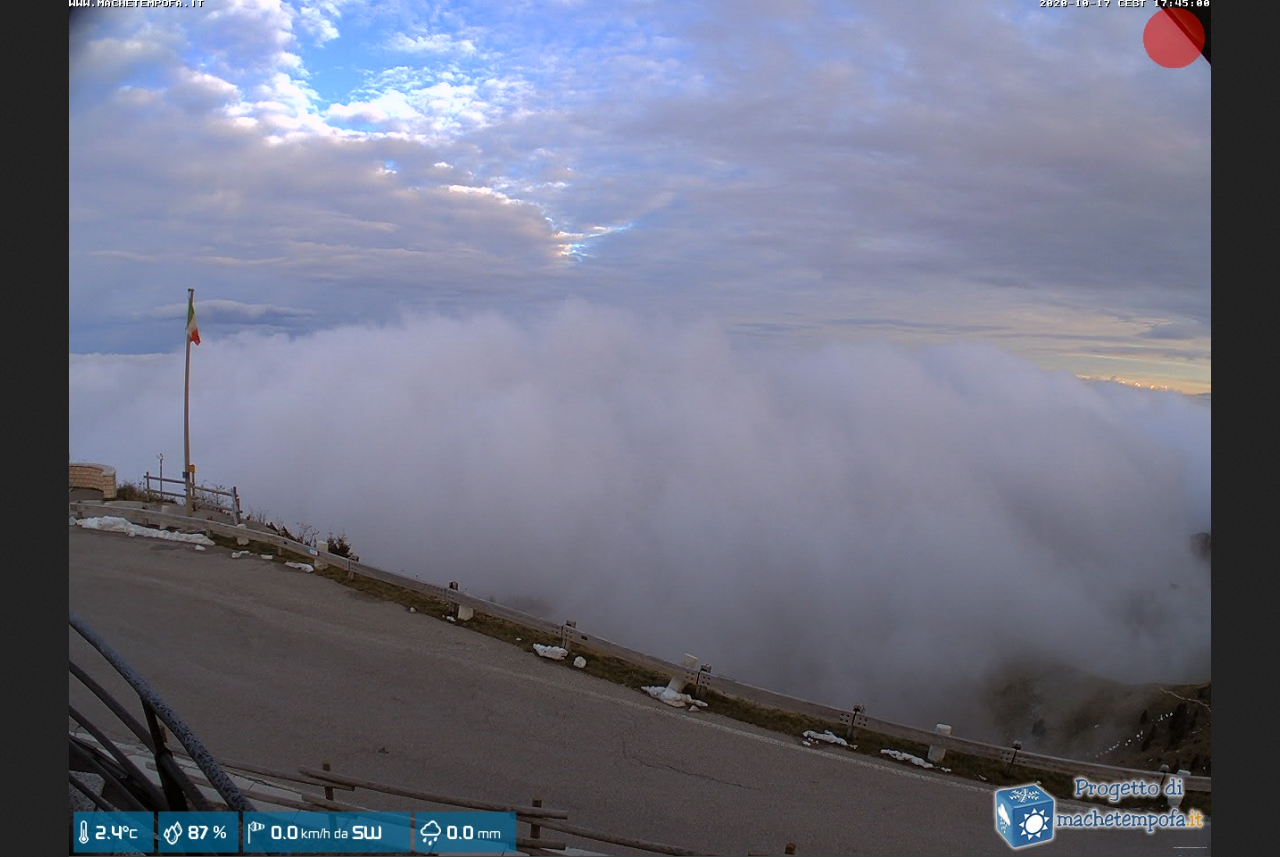no: (184, 300, 202, 345)
